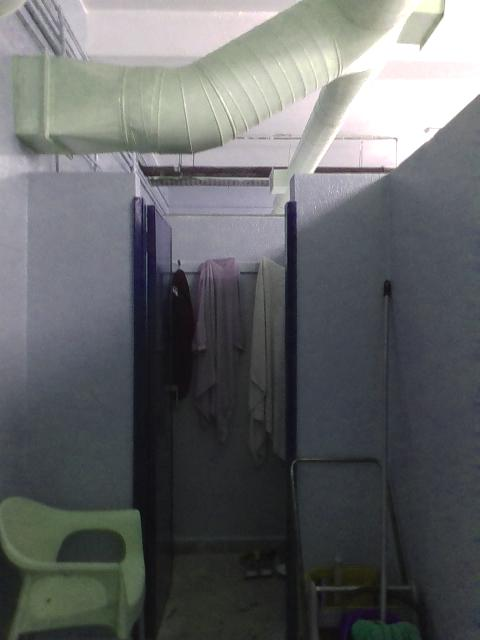open_door: (136, 171, 299, 638)
